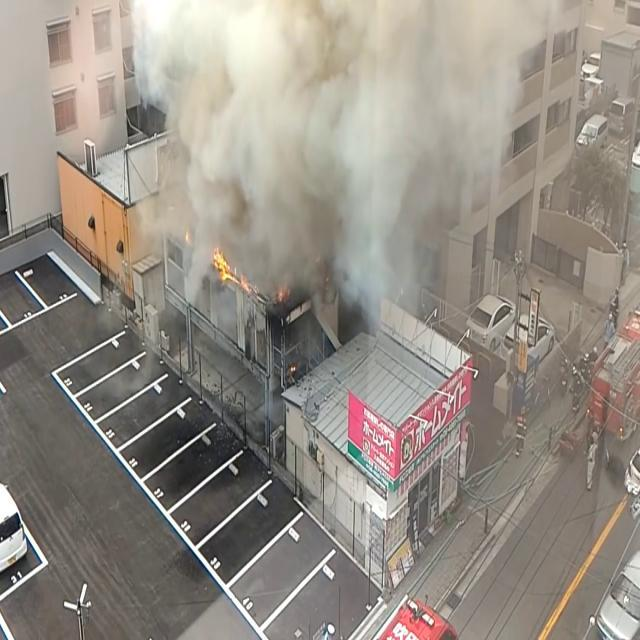Smoke: (122, 0, 544, 328)
